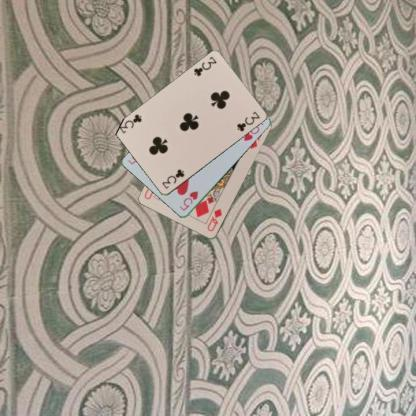3c: (190, 54, 218, 78), (160, 166, 186, 190)
5h: (176, 188, 200, 212)
Qd: (205, 206, 223, 233)
